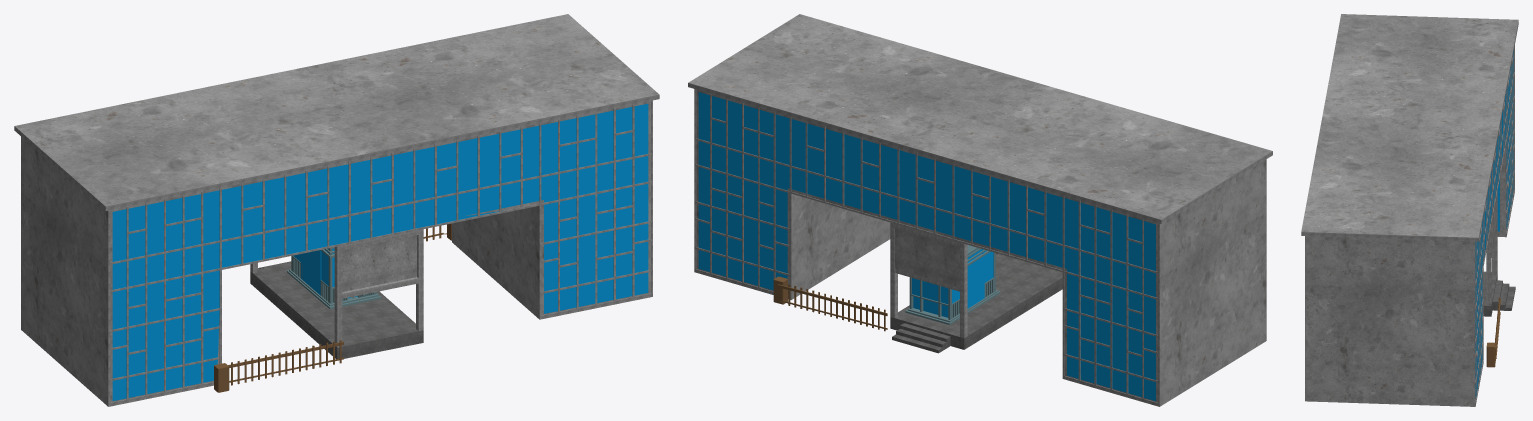
The model's file is changfang02.gltf.
3 renders of one model, left to right at view 1: azimuth 30°, elevation 25°; view 2: azimuth 150°, elevation 25°; view 3: azimuth 270°, elevation 25°, orthographic. The views are drawn at different scales.
Parts seen in each view (by area): view 1: changfang02_127, changfang02_125, changfang02_112, changfang02_61, changfang02_113, changfang02_121, changfang02_37, changfang02_106, changfang02_48, changfang02_38; view 2: changfang02_125, changfang02_128, changfang02_112, changfang02_62, changfang02_113, changfang02_126, changfang02_106, changfang02_50, changfang02_49, changfang02_80, changfang02_79; view 3: changfang02_125, changfang02_112, changfang02_62, changfang02_128, changfang02_113, changfang02_49, changfang02_27, changfang02_50, changfang02_126.
Part boxes in pixels (x1,y1,x2,y2): changfang02_127: (112,103,648,400); changfang02_125: (14,14,659,210); changfang02_112: (21,101,650,406); changfang02_61: (108,100,652,406); changfang02_113: (250,261,423,358); changfang02_121: (342,235,416,291); changfang02_37: (334,245,342,347); changfang02_106: (301,250,321,295); changfang02_48: (416,229,423,331); changfang02_38: (342,277,418,298); changfang02_125: (688,14,1272,223); changfang02_128: (698,92,1155,401); changfang02_112: (696,89,1266,406); changfang02_62: (694,89,1159,406); changfang02_113: (890,254,1062,353); changfang02_126: (895,228,959,287); changfang02_106: (967,249,984,308); changfang02_50: (960,242,967,337); changfang02_49: (890,222,897,317); changfang02_80: (912,278,948,304); changfang02_79: (905,290,1000,324); changfang02_125: (1301,14,1518,241); changfang02_112: (1305,138,1513,406); changfang02_62: (1475,45,1514,406); changfang02_128: (1475,51,1513,397); changfang02_113: (1483,271,1515,316); changfang02_49: (1486,224,1491,305); changfang02_27: (1486,342,1495,367); changfang02_50: (1492,191,1497,273); changfang02_126: (1491,196,1496,256).
Size of the model in its own units: 250 by 89 by 103.
5 materials, 2 textured.
